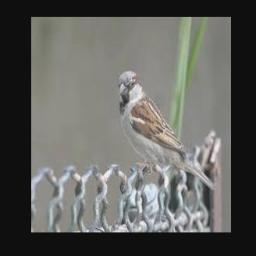Sparrow: (117, 70, 216, 194)
